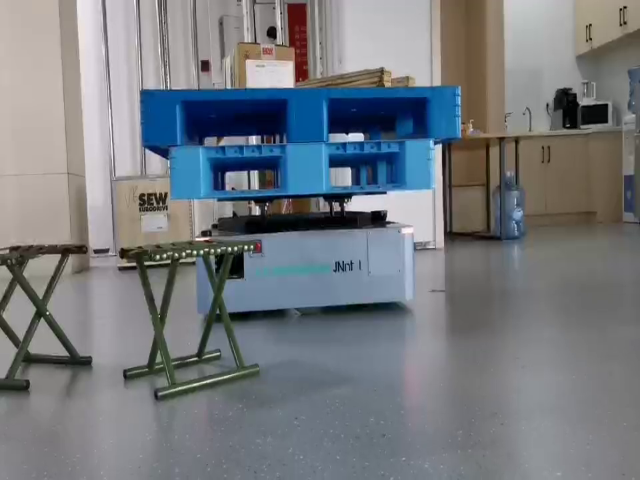block: (283, 89, 329, 144), (142, 87, 182, 145), (429, 88, 468, 139)
front: (139, 89, 462, 145)
hole pallet: (175, 99, 287, 145), (327, 98, 431, 140)
